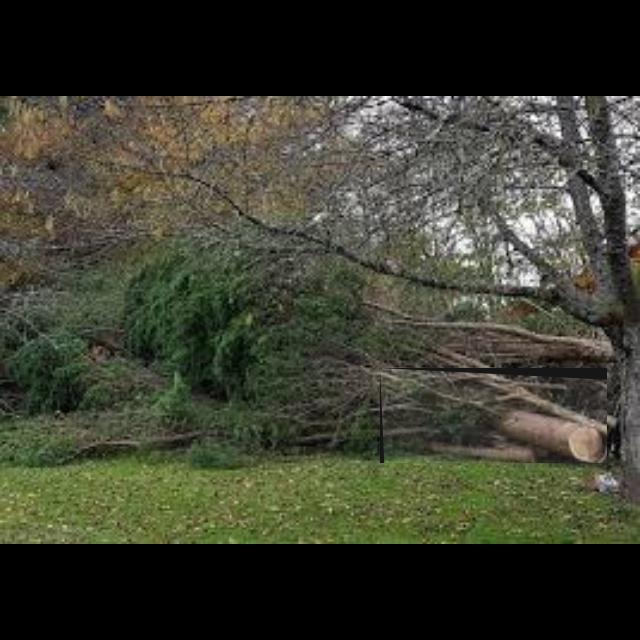fallen_tree: (380, 368, 608, 464)
